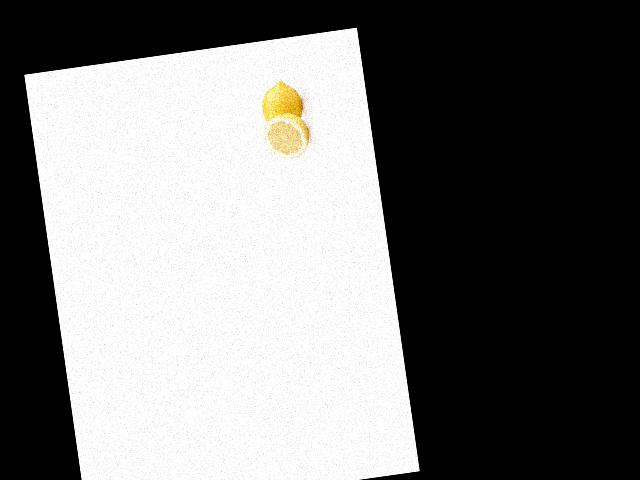lemon: (255, 77, 309, 126)
